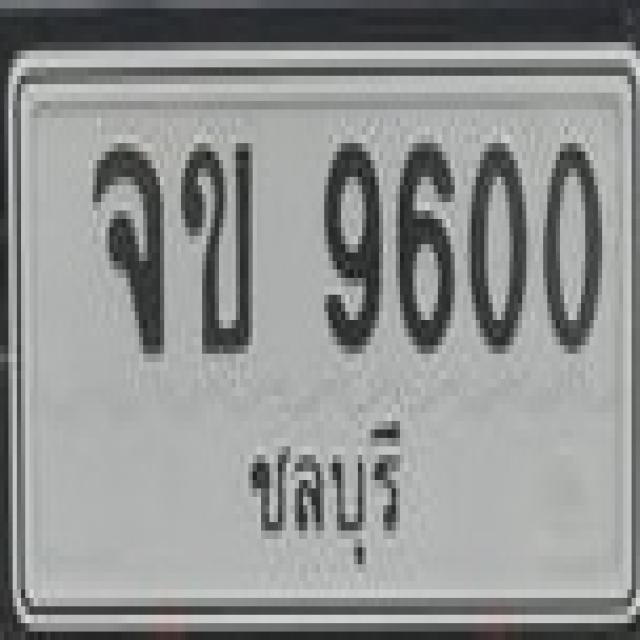license_plate: (8, 42, 640, 632)
